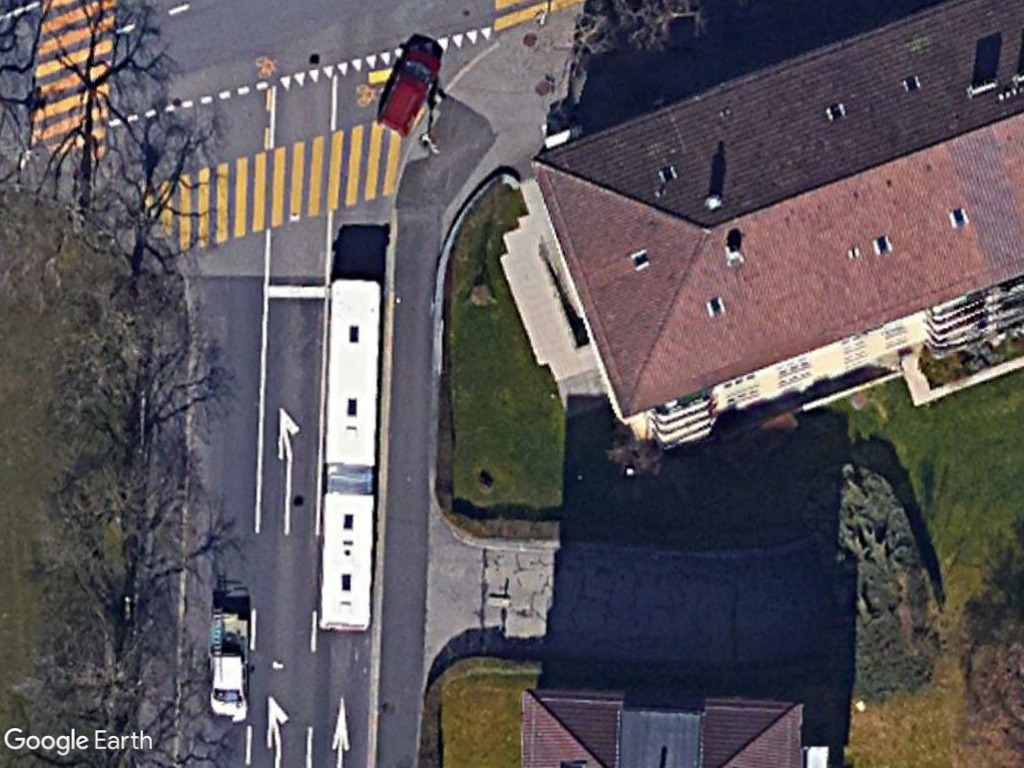bus: (314, 268, 394, 468), (316, 485, 380, 636)
car: (373, 38, 447, 141)
others: (199, 610, 250, 718)
